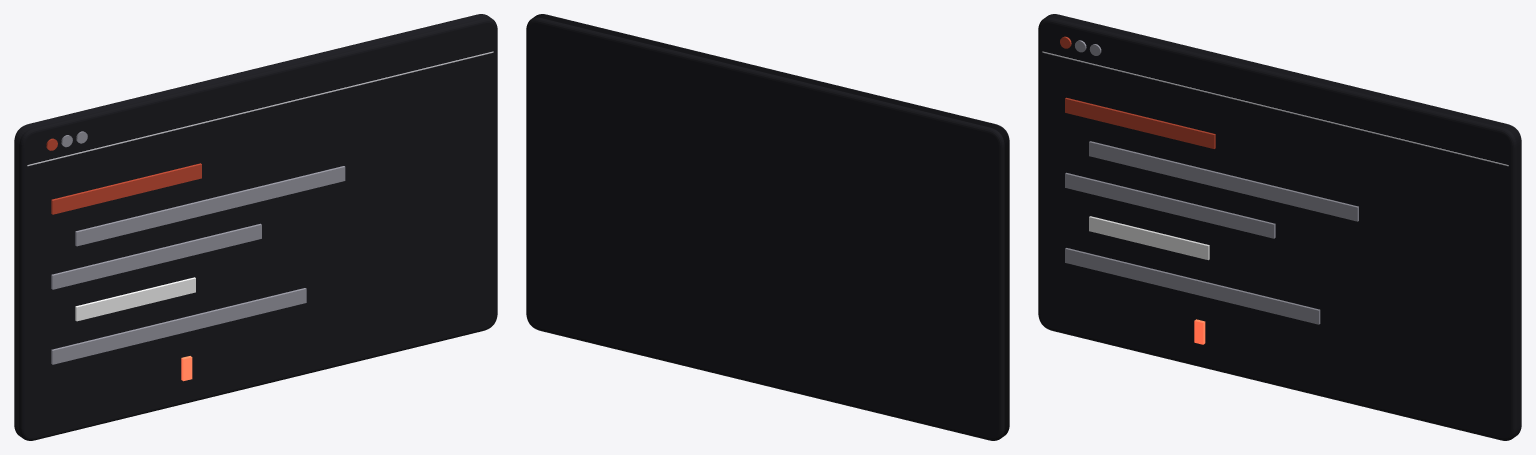
File: terminal.glb
3 views of the same model, side by side, from view 1: azimuth 30°, elevation 25°; view 2: azimuth 150°, elevation 25°; view 3: azimuth 330°, elevation 25° (orthographic).
Parts seen in each view (by area): view 1: window, code-1, code-4, code-2, code-0, code-3, bar; view 2: window; view 3: window, code-1, code-4, code-2, code-0, code-3, bar.
Boxes of the visible parts, left/top/right/bottom form: window: left=14, top=14, right=497, bottom=440; code-1: left=75, top=166, right=345, bottom=246; code-4: left=51, top=288, right=306, bottom=364; code-2: left=51, top=223, right=261, bottom=289; code-0: left=51, top=163, right=201, bottom=214; code-3: left=75, top=277, right=195, bottom=321; bar: left=27, top=51, right=493, bottom=166; window: left=526, top=14, right=1009, bottom=440; window: left=1038, top=14, right=1521, bottom=440; code-1: left=1089, top=141, right=1358, bottom=221; code-4: left=1065, top=248, right=1320, bottom=324; code-2: left=1065, top=172, right=1275, bottom=238; code-0: left=1065, top=97, right=1215, bottom=148; code-3: left=1089, top=216, right=1209, bottom=260; bar: left=1042, top=51, right=1508, bottom=166.
Bounding box in the file's own units: 1.6 × 1 × 0.063.
